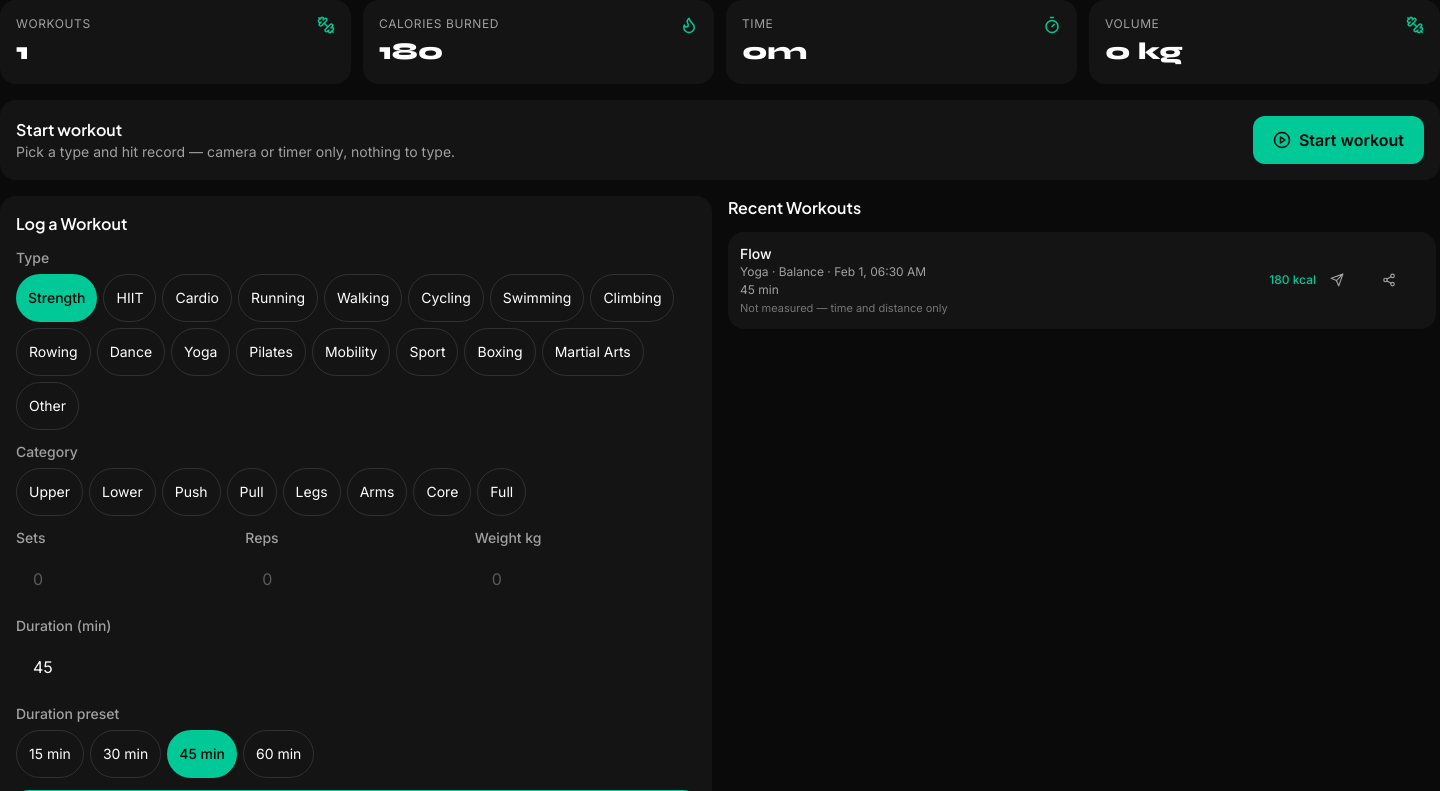
WorkoutsTab field visibility › shows rounds for hiit and a sport field for sport
This screenshot has width=1440, height=791.
Expected: the number field labelled "Sets" is shown, [16,554,237,604]
Click the button "HIIT" at (130, 298), box [104,274,156,322]
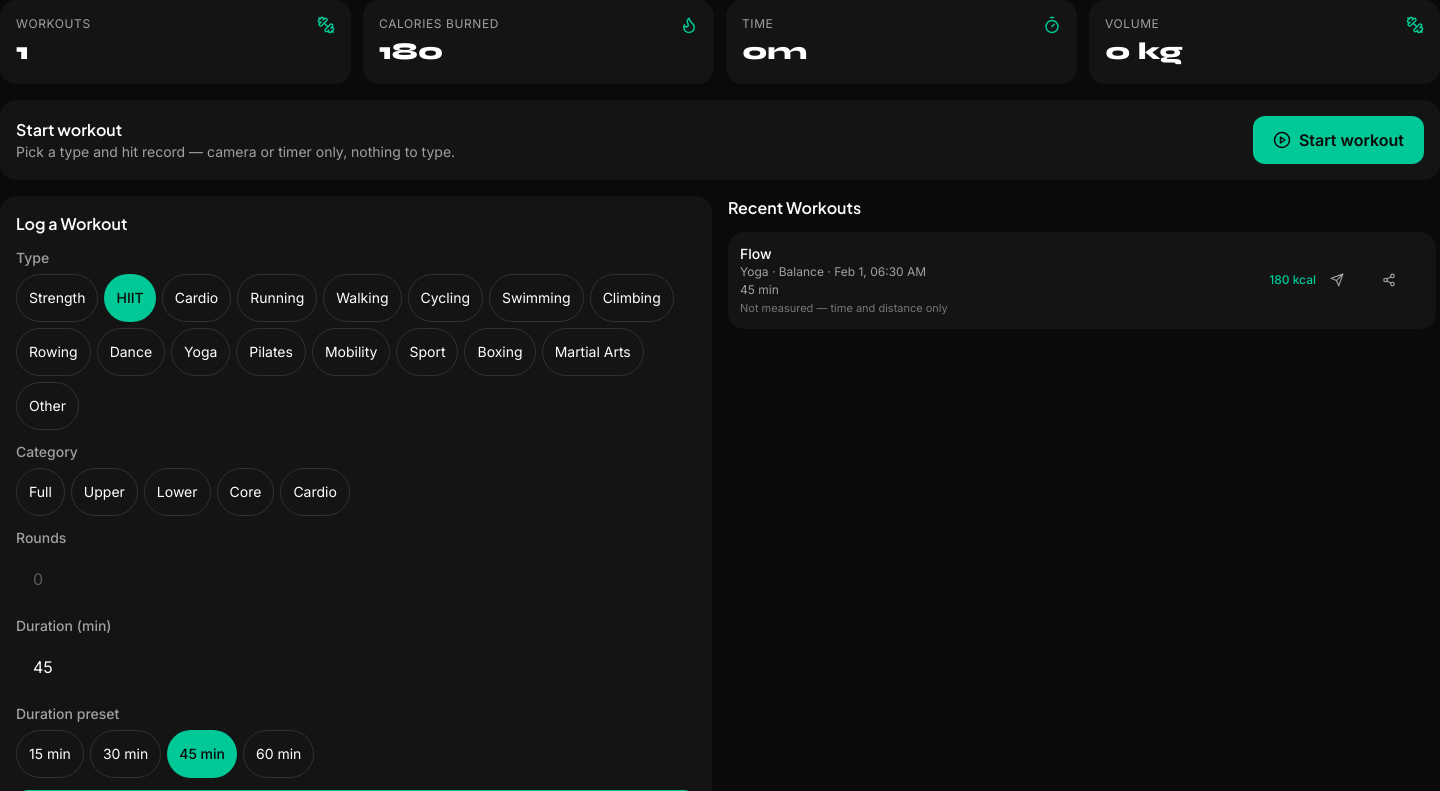
Expected: the number field labelled "Rounds" is shown, [16,554,696,604]
Click the button "Sport" at (428, 352), box [396,328,458,376]
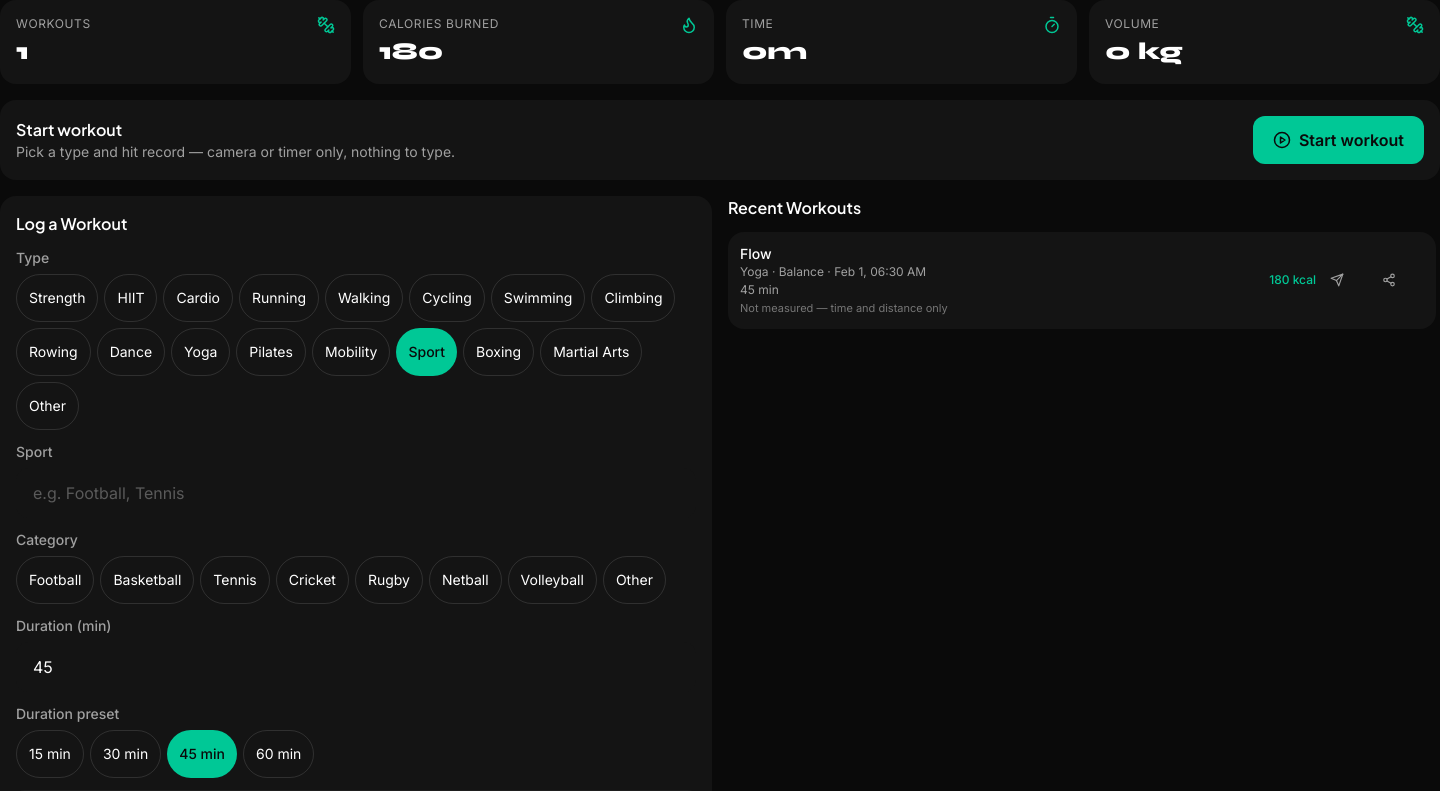
Expected: the field labelled "Sport" is shown, [16,468,696,518]
Expected: the label labelled "Rounds" is gone
